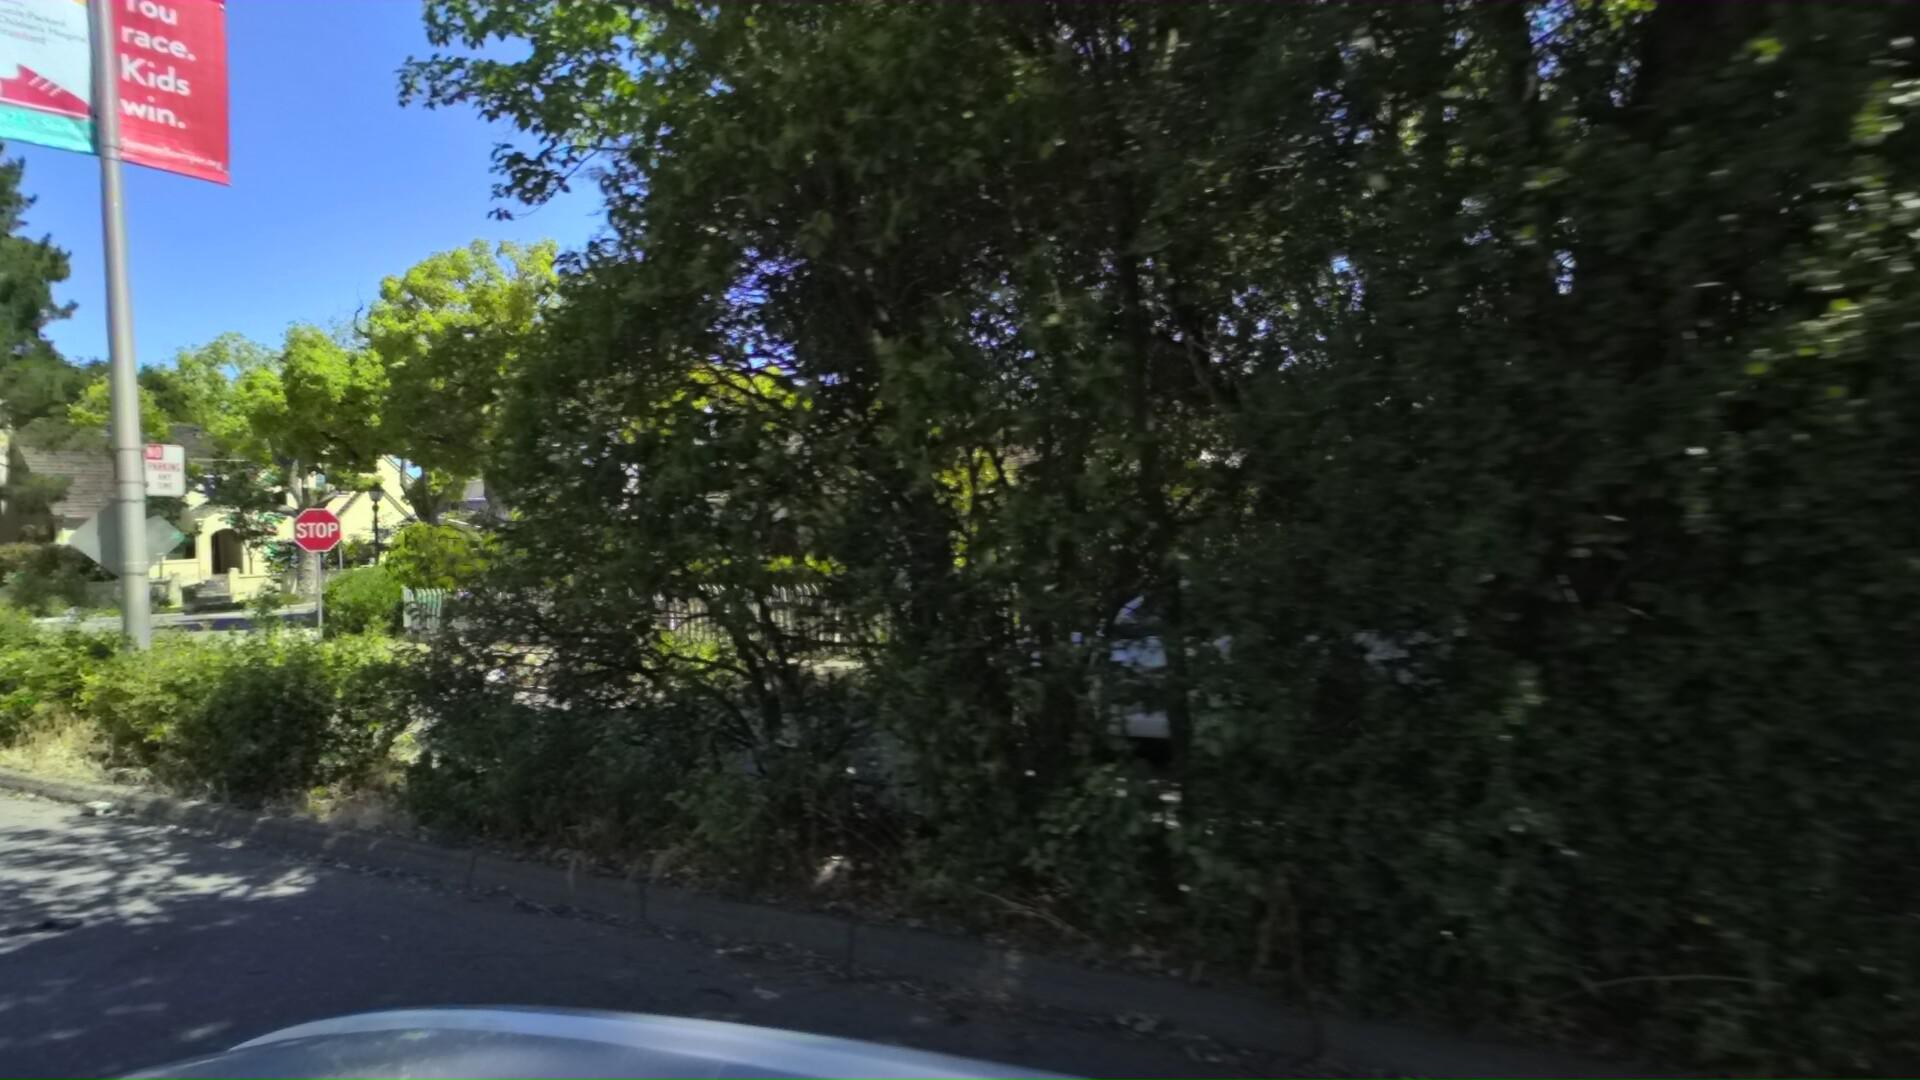car: (965, 527, 1600, 829)
